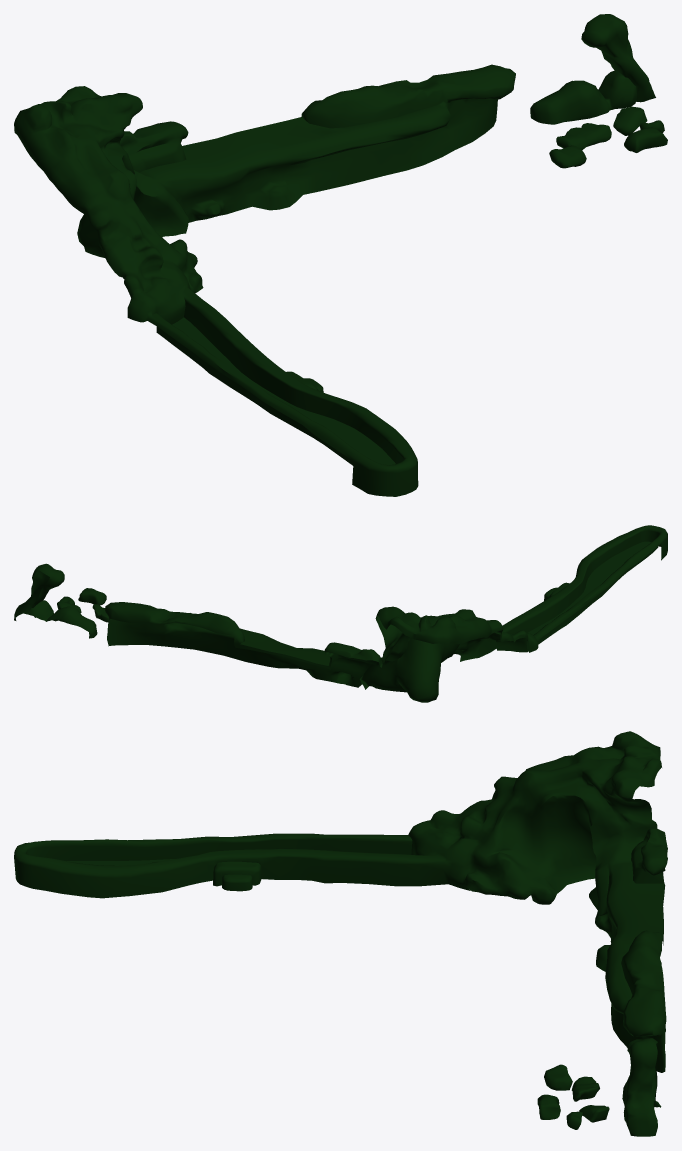
Rendered from cave.fbx.
3 views of the same model, one above another, from view 1: azimuth 30°, elevation 25°; view 2: azimuth 150°, elevation 25°; view 3: azimuth 270°, elevation 25° (orthographic). The views are drawn at different scales.
Visible parts, largest first — view 1: ip1:lppolySurface20; view 2: ip1:lppolySurface20; view 3: ip1:lppolySurface20.
Part boxes in pixels (bbox=[...]): ip1:lppolySurface20: bbox=[14, 14, 667, 496]; ip1:lppolySurface20: bbox=[14, 525, 667, 702]; ip1:lppolySurface20: bbox=[14, 731, 667, 1136].
Bounding box in the file's own units: 1619 × 361 × 1572.
